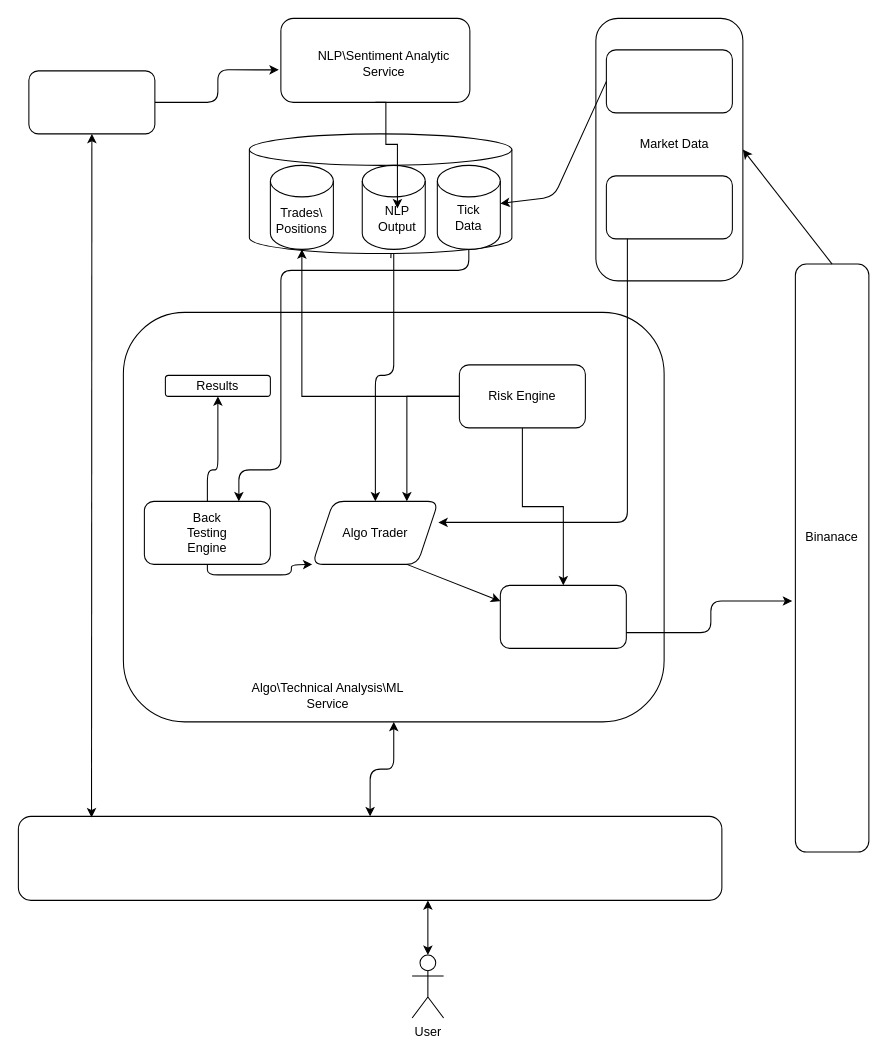
The diagram is 887 pixels wide and 1058 high, and some of its shapes have lost their labels. Here are the shapes that lost their labels. From the top down, the centre of each, then its label:
At point 668,81: "Historical-Data".
At point 91,102: "Stock Screener".
At point 668,207: "Live Data".
At point 562,616: "Trading Link".
At point 369,857: "Web server\User Interface".
